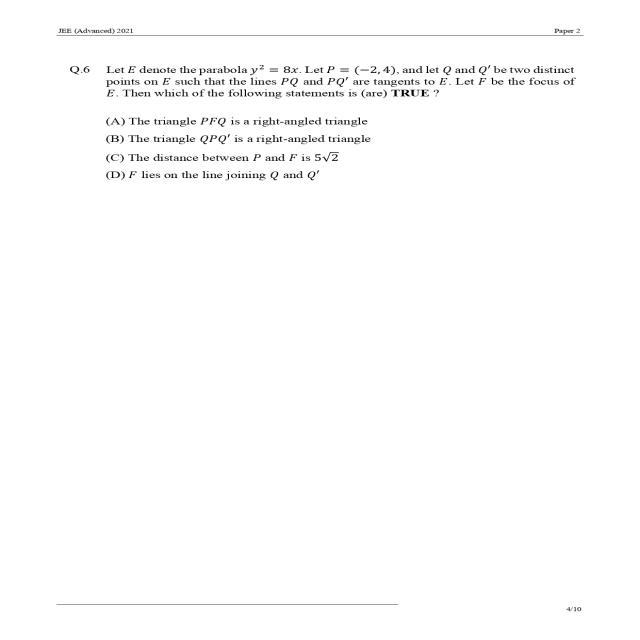Answer_Block: (55, 111, 602, 190)
Question_Answer_Block: (55, 46, 602, 190)
Question_Block: (55, 46, 602, 110)
Question_Paper_Area: (55, 46, 602, 588)
